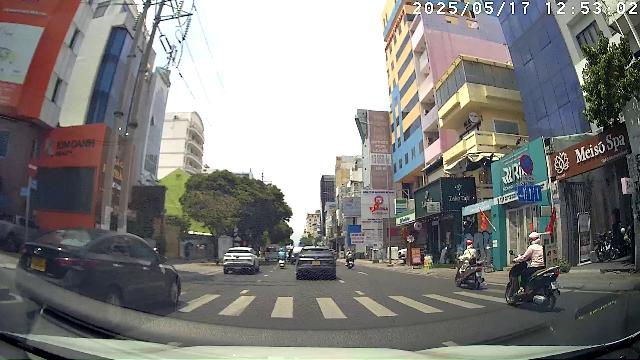131a-cam-do-xe: (520, 154, 534, 174)
